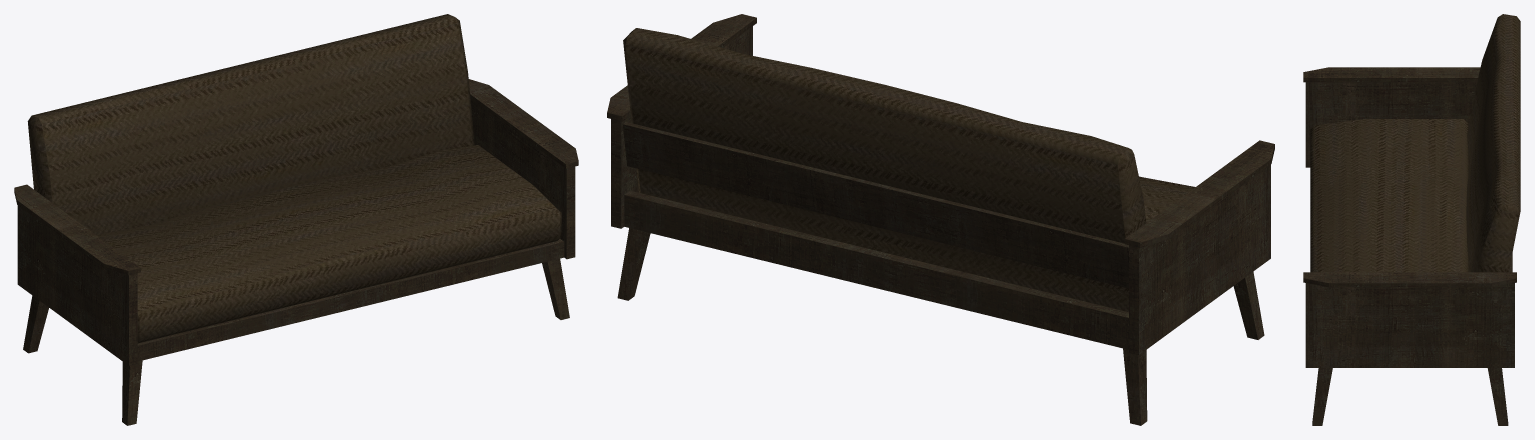
File: sofa_4_2.glb
3 views of the same model, side by side, from view 1: azimuth 30°, elevation 25°; view 2: azimuth 150°, elevation 25°; view 3: azimuth 270°, elevation 25° (orthographic). The views are drawn at different scales.
Parts seen in each view (by area): view 1: sofa_4_2; view 2: sofa_4_2; view 3: sofa_4_2.
Part boxes in pixels (x1,y1,x2,y2): sofa_4_2: (14, 14, 578, 425); sofa_4_2: (607, 14, 1274, 425); sofa_4_2: (1303, 14, 1520, 425).
Size of the model in its own units: 2.2 by 1.03 by 0.9346.
2 materials, 2 textured.
